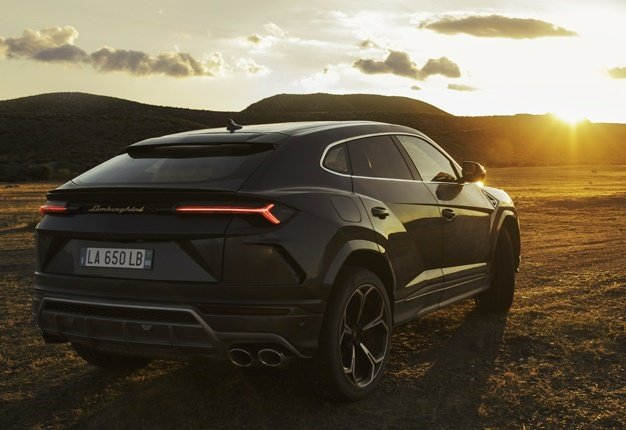car: (33, 115, 526, 400)
